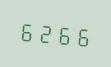six: (18, 16, 35, 45), (54, 19, 71, 48), (72, 21, 89, 49)
two: (36, 18, 53, 46)
